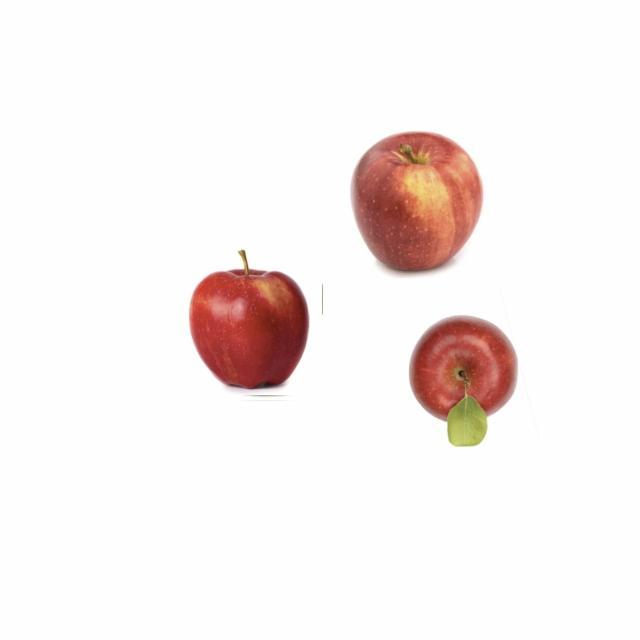Fresh Apple: (350, 125, 487, 280), (180, 252, 318, 400), (402, 314, 522, 434)
